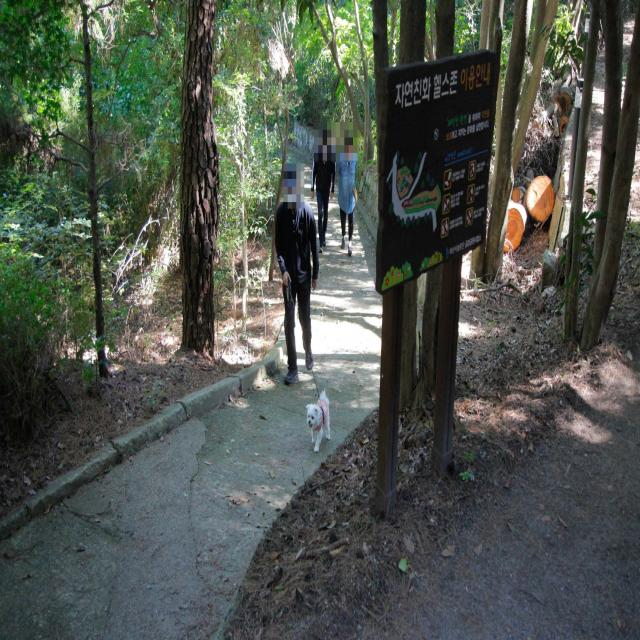Leashed_Dog: (281, 271, 331, 454)
